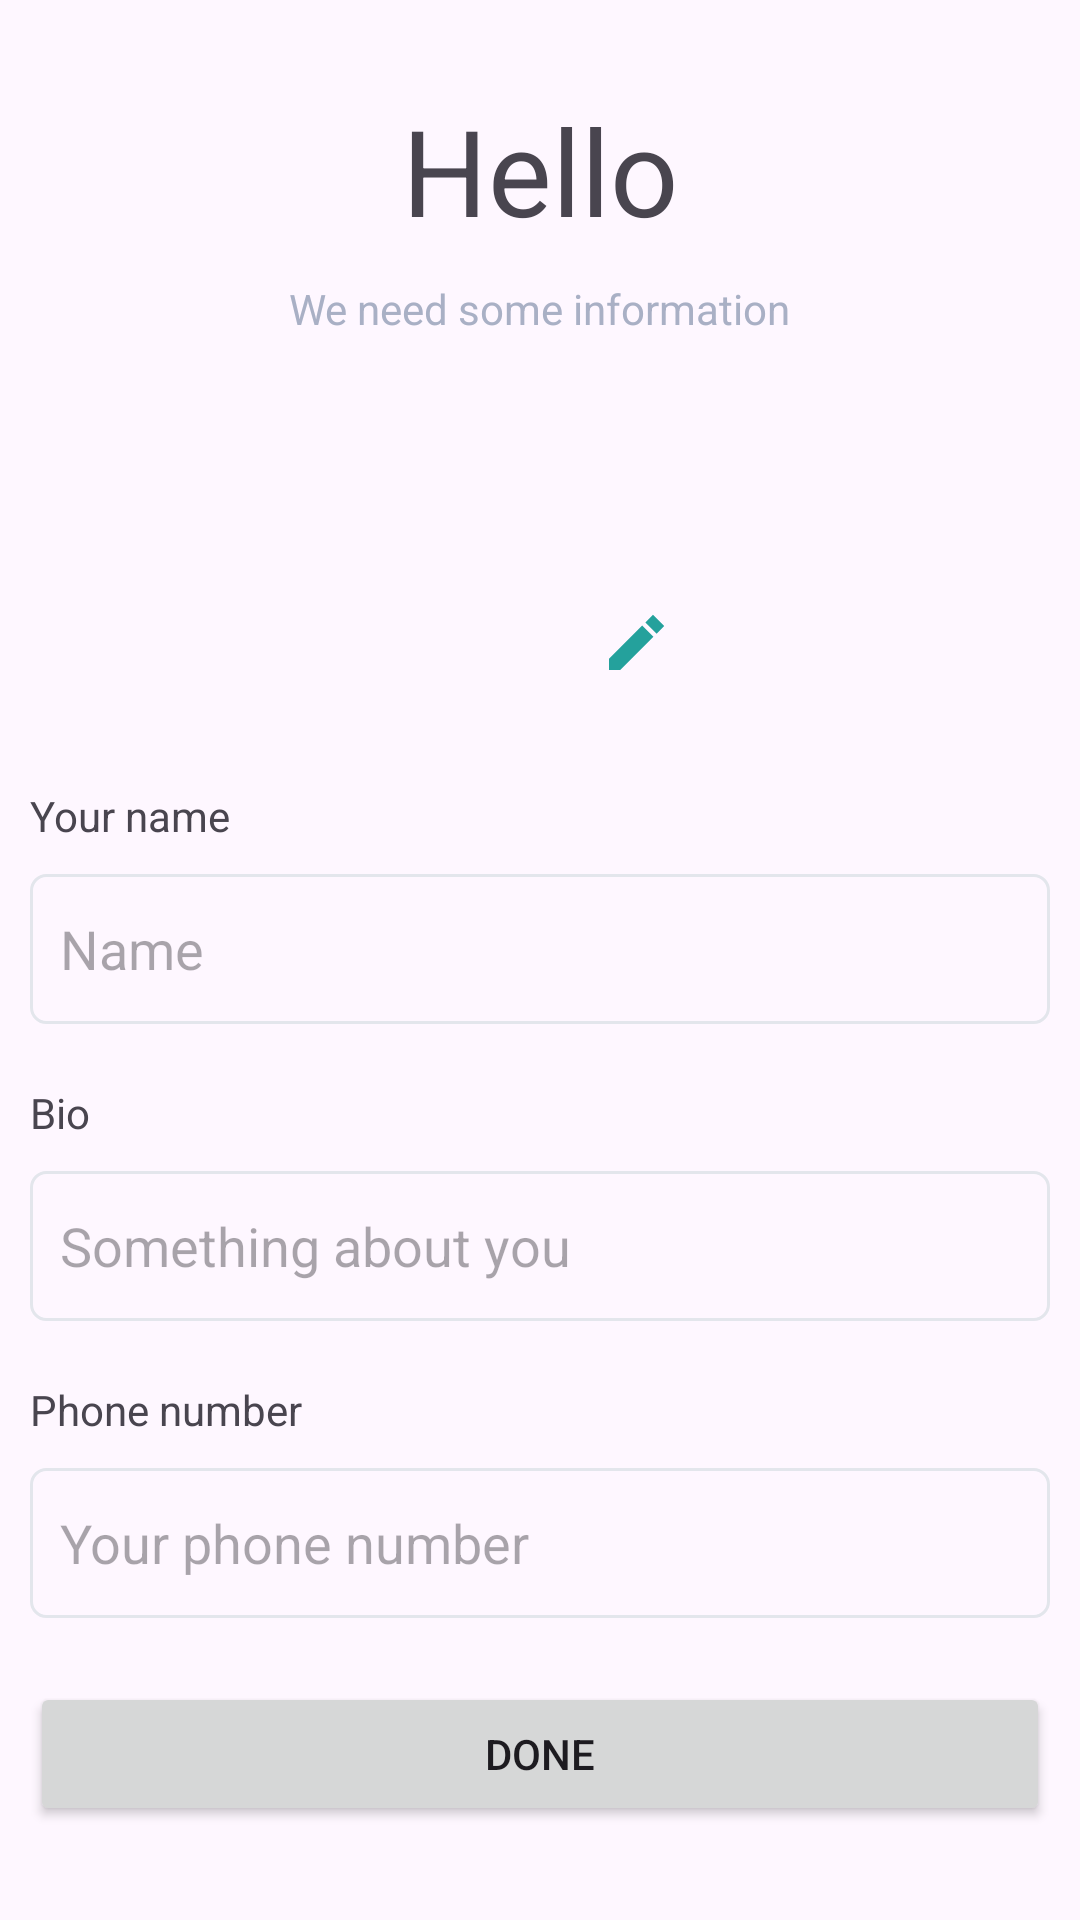

Point at icon controls on the screen. Image size 1080 x 1920, points as (x=x, y=y).
edit: (x=636, y=642)
